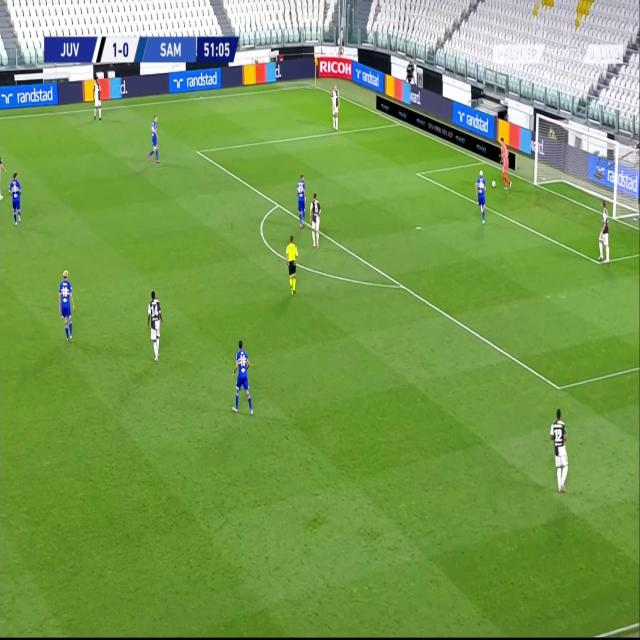ball: (491, 177, 497, 187)
player: (231, 336, 255, 416), (549, 404, 570, 491), (57, 266, 76, 344), (146, 287, 164, 361), (596, 200, 612, 262), (285, 233, 300, 296), (308, 191, 322, 249), (475, 166, 489, 223), (146, 113, 161, 166), (8, 170, 22, 225), (498, 135, 511, 191), (329, 81, 341, 129), (296, 173, 306, 228), (92, 76, 102, 120), (0, 152, 6, 198)
